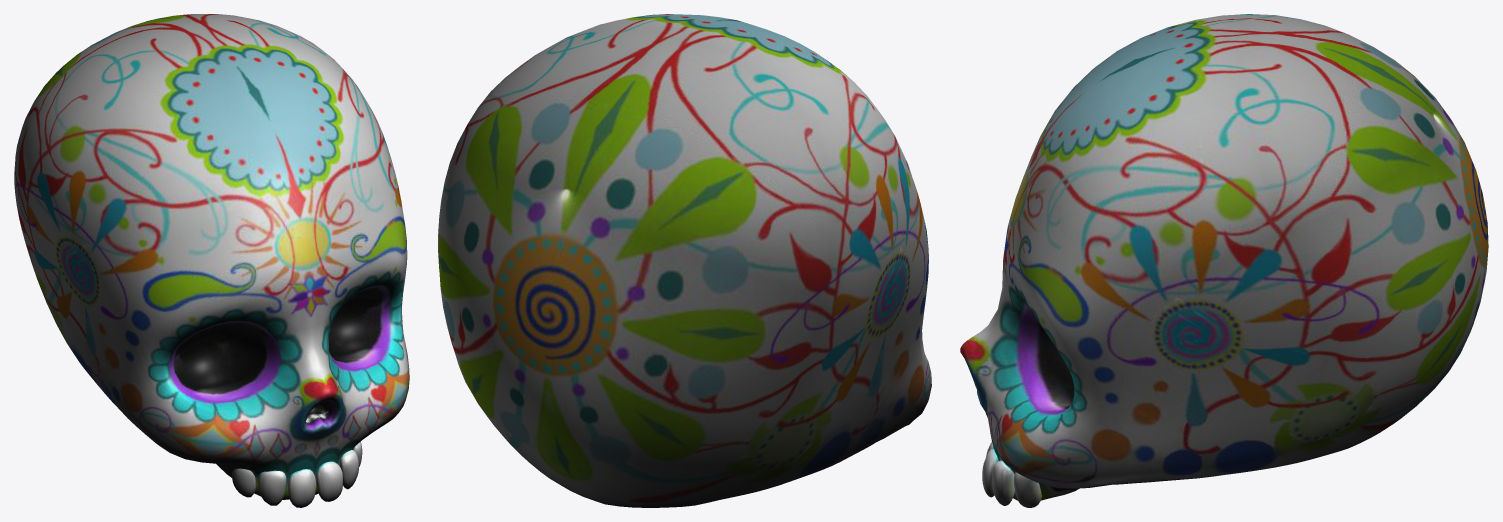
Rendered from mexican_skull_candy.glb.
3 renders of one model, left to right at view 1: azimuth 30°, elevation 25°; view 2: azimuth 150°, elevation 25°; view 3: azimuth 270°, elevation 25°, orthographic. The views are drawn at different scales.
Parts seen in each view (by area): view 1: Object_3, Object_2; view 2: Object_3; view 3: Object_3, Object_2.
Part boxes in pixels (x1,y1,x2,y2): Object_3: (14, 14, 409, 499); Object_2: (232, 441, 362, 507); Object_3: (438, 14, 931, 507); Object_3: (960, 14, 1488, 500); Object_2: (982, 442, 1041, 507).
Size of the model in its own units: 7.85 by 9.42 by 9.98.
1 material, 1 textured.
